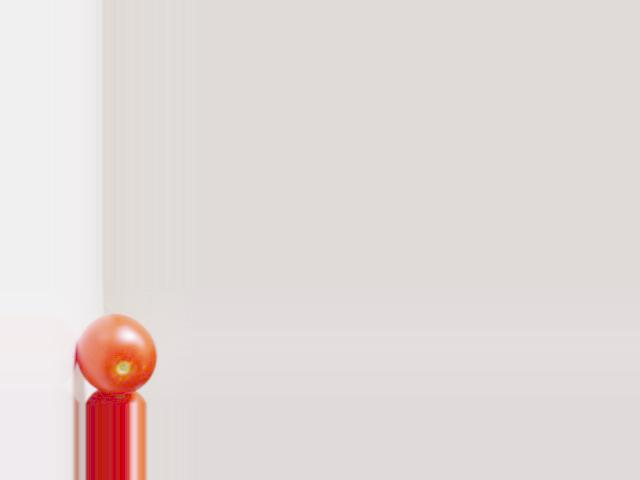tomato: (77, 314, 156, 394)
